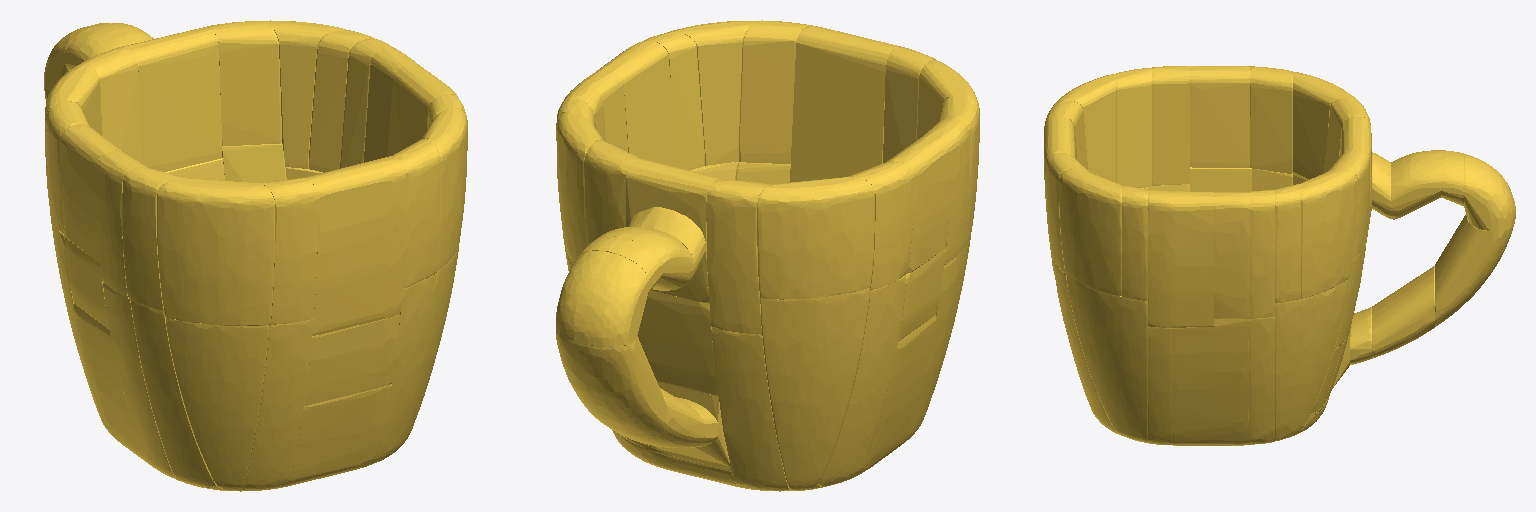
The robot description file, URDF, robot "34.urdf":
<?xml version="1.0" ?>
<robot name="34.urdf">
	<link name="baseLink">
		<inertial>
			<origin rpy="0 0 0" xyz="0 0 0"/>
				<mass value="0.1"/>
				<inertia ixx="6e-5" ixy="0" ixz="0" iyy="6e-5" iyz="0" izz="6e-5"/>
		</inertial>
		<visual>
			<origin rpy="0 0 0" xyz="0 0 0"/>
			<geometry>
				<mesh filename="14_decom_wt.obj" scale="1.06 1.06 0.85"/>
			</geometry>
			<material name="yellow">
				<color rgba="0.98 0.84 0.35 1"/>
			</material>
		</visual>
		<collision>
			<origin rpy="0 0 0" xyz="0 0 0"/>
			<geometry>
				<mesh filename="14_decom_wt.obj" scale="1.06 1.06 0.85"/>
			</geometry>
		</collision>
	</link>
</robot>

--- Facts derived from the render (not from the file) ---
The picture shows the robot from 3 angles, left to right: view 1: azimuth 30°, elevation 25°; view 2: azimuth 150°, elevation 25°; view 3: azimuth 270°, elevation 25°; orthographic projection.
Robot: 34.urdf — 1 links, 0 joints (none); root link baseLink; default pose: all joints at 0.
Visible links, largest first — view 1: baseLink; view 2: baseLink; view 3: baseLink.
Link boxes in pixels (x1=…): baseLink: x1=44, y1=20, x2=467, y2=491; baseLink: x1=556, y1=20, x2=979, y2=491; baseLink: x1=1044, y1=66, x2=1515, y2=445.
Bounding box of the posed robot: 0.1041 × 0.1498 × 0.0954 m (x, y, z).
1 mesh visuals loaded from 1 distinct referenced files (1 OBJ).